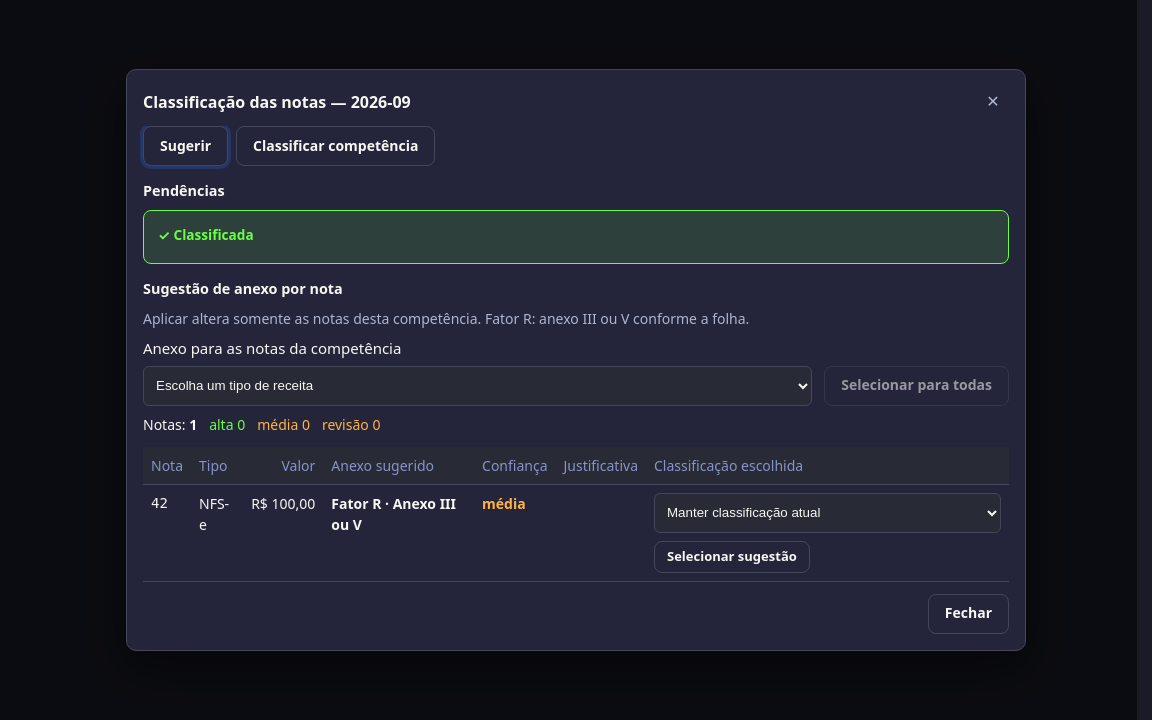
Test: recusa na aplicação permanece visível e mantém seleção para revisão
The image size is (1152, 720).
Step 1. Click the button "Selecionar sugestão" → x=732, y=556, box [654, 540, 810, 572]
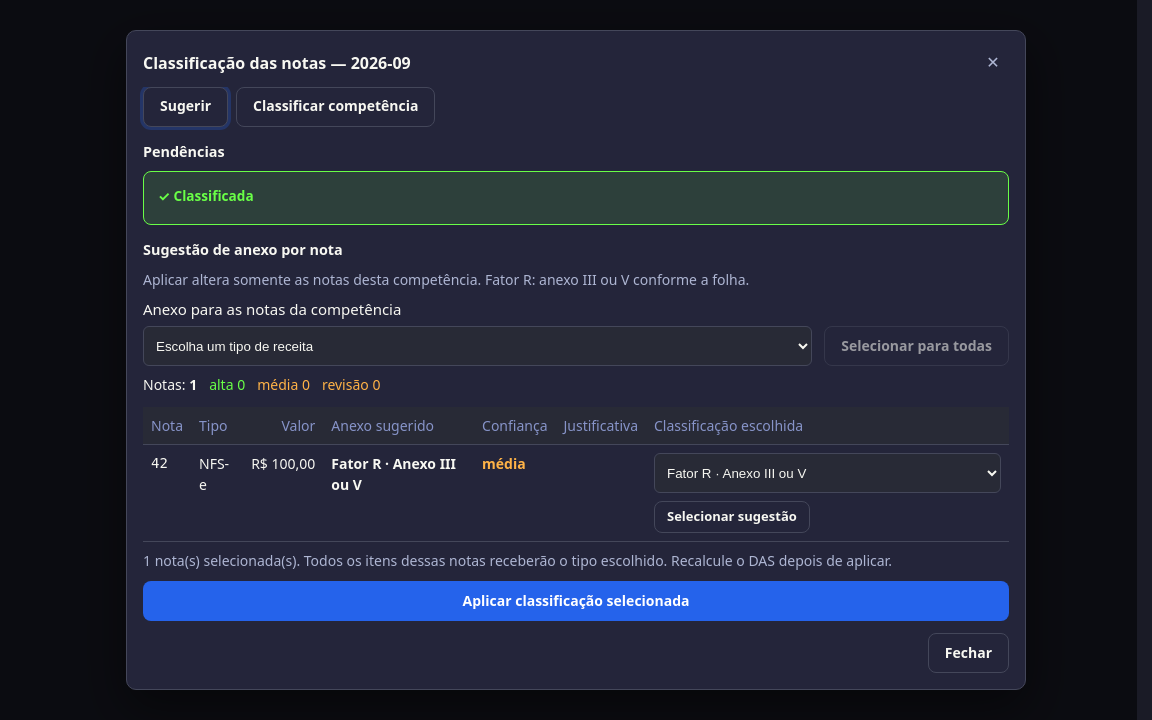
Step 2. Click the button "Aplicar classificação selecionada" → x=576, y=601, box [143, 581, 1009, 621]
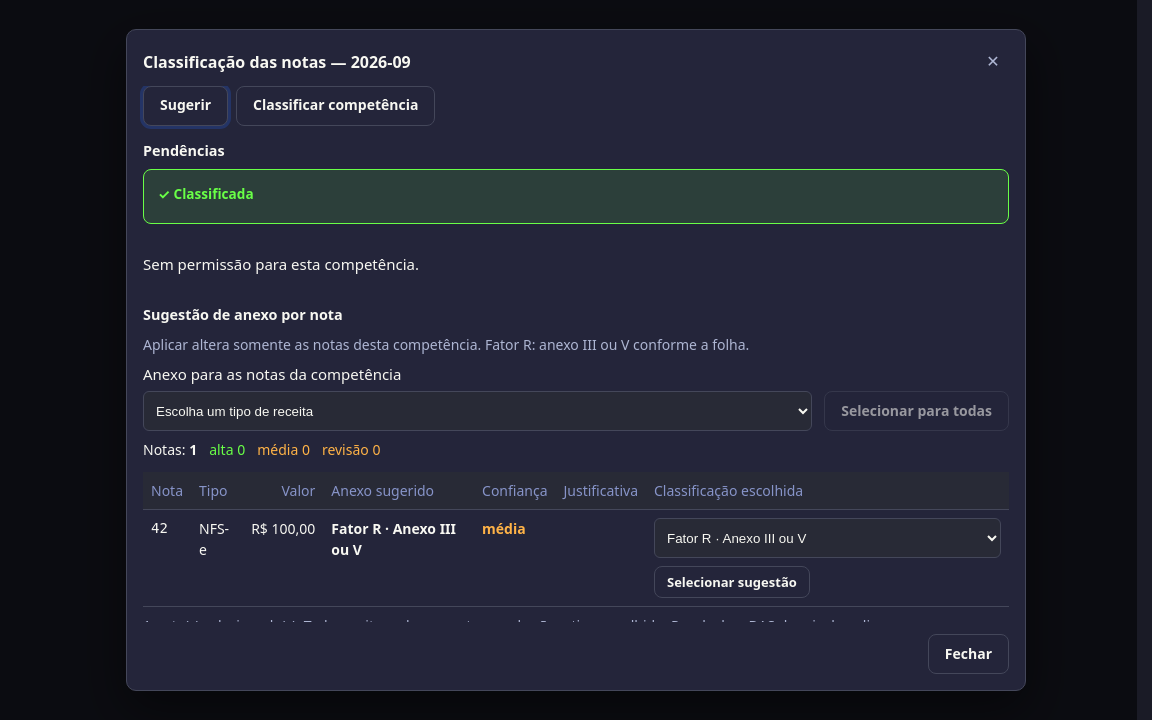
Now the dropdown named "Anexo da nota 42" shows "Fator R · Anexo III ou V", box [654, 518, 1001, 558]
Now the message reads "Sem permissão para esta competência.", box [143, 254, 419, 274]
